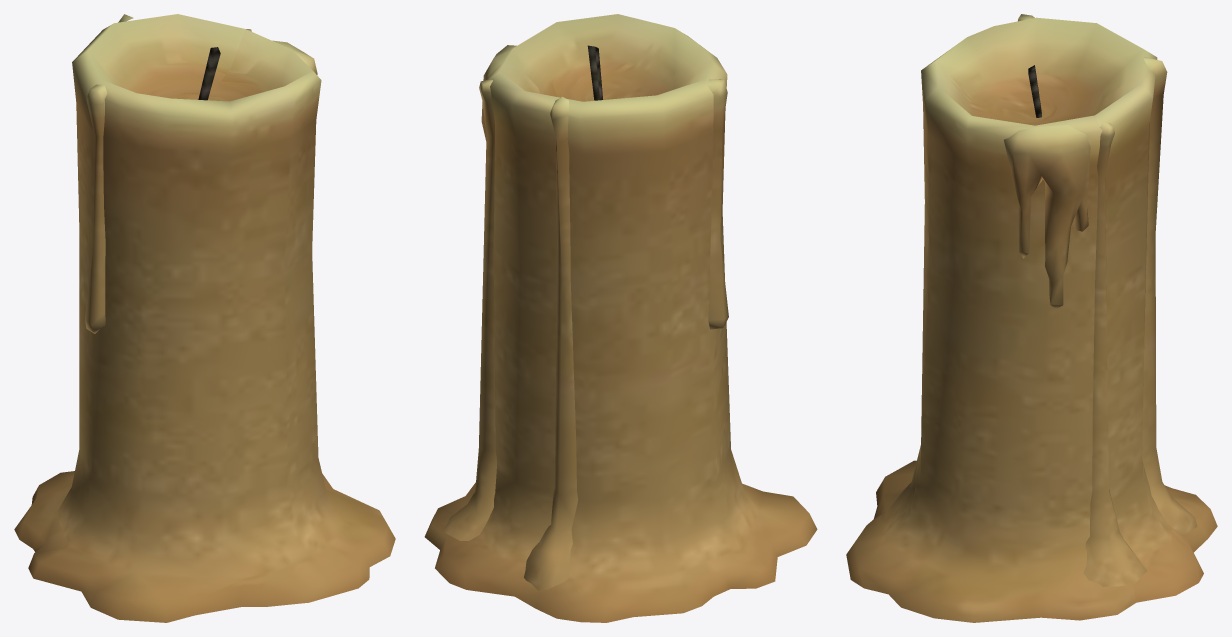
File: GEN_PRO_Candle_Single_01A_LOD0-transformed.glb
3 renders of one model, left to right at view 1: azimuth 30°, elevation 25°; view 2: azimuth 150°, elevation 25°; view 3: azimuth 270°, elevation 25°, orthographic.
Parts seen in each view (by area): view 1: default; view 2: default; view 3: default.
Part boxes in pixels (bbox=[...]): default: bbox=[14, 14, 395, 622]; default: bbox=[424, 14, 817, 622]; default: bbox=[846, 14, 1217, 622].
Bounding box in the file's own units: 0.106 × 0.153 × 0.1057.
1 material, 1 textured.
